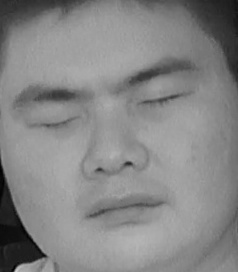blink: (141, 80, 190, 114), (30, 105, 80, 138)
mouth: (78, 182, 167, 231)
